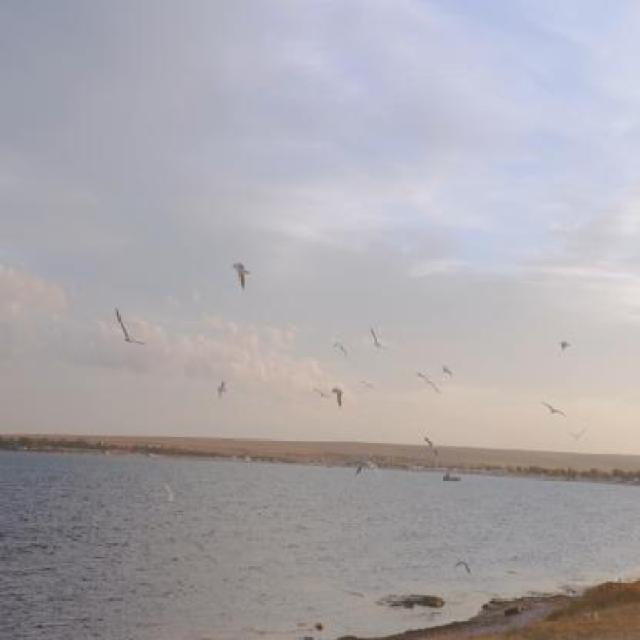bird: (112, 302, 148, 350), (227, 256, 255, 293), (415, 366, 440, 399), (538, 395, 570, 420), (420, 428, 438, 461), (308, 381, 329, 408), (364, 322, 384, 350), (330, 379, 344, 418), (435, 355, 453, 380), (330, 335, 348, 357), (215, 375, 228, 403), (558, 337, 572, 355)
